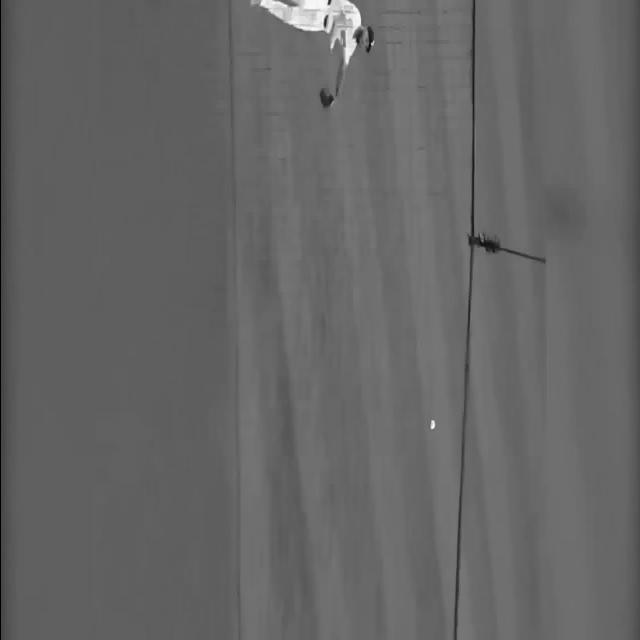baseball: (429, 419, 435, 429)
shoe: (318, 88, 334, 108)
